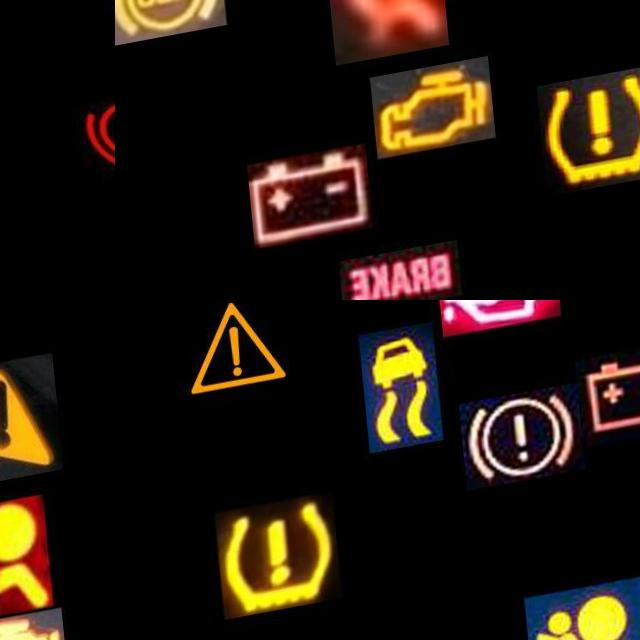Central Warning lamp: (169, 300, 296, 418), (0, 374, 57, 507)
